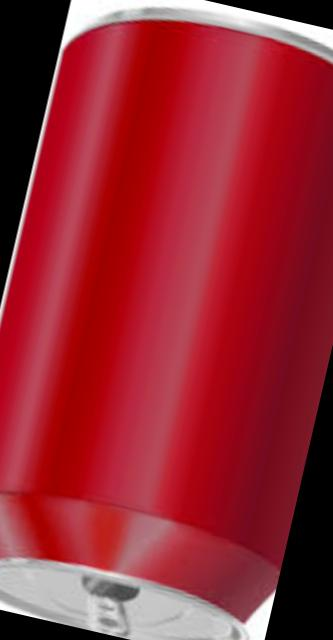metal: (0, 18, 333, 640)
